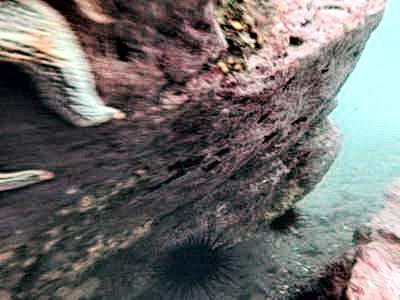urchin: (154, 235, 224, 284), (271, 204, 295, 229)
